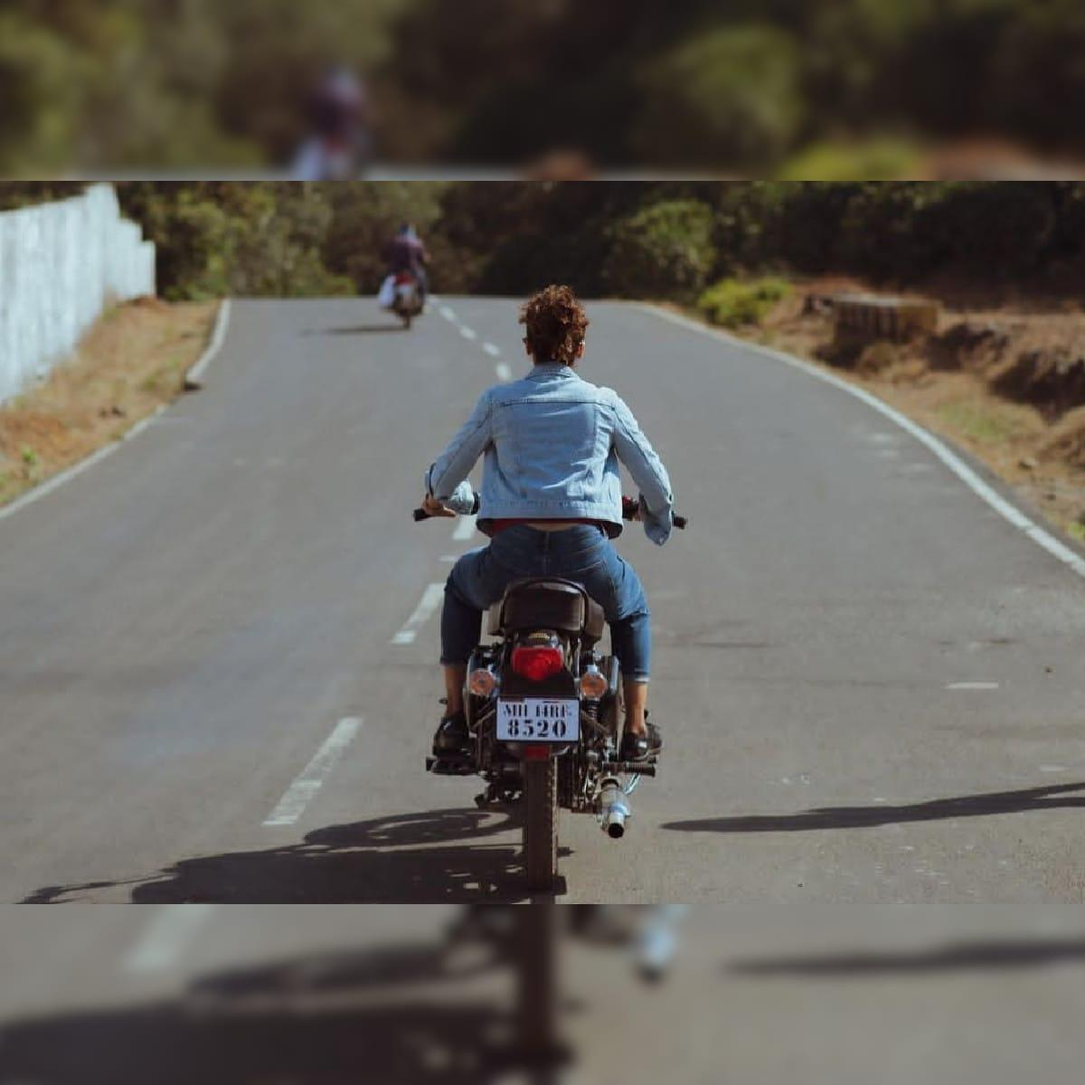nohelmet: (519, 278, 594, 379)
